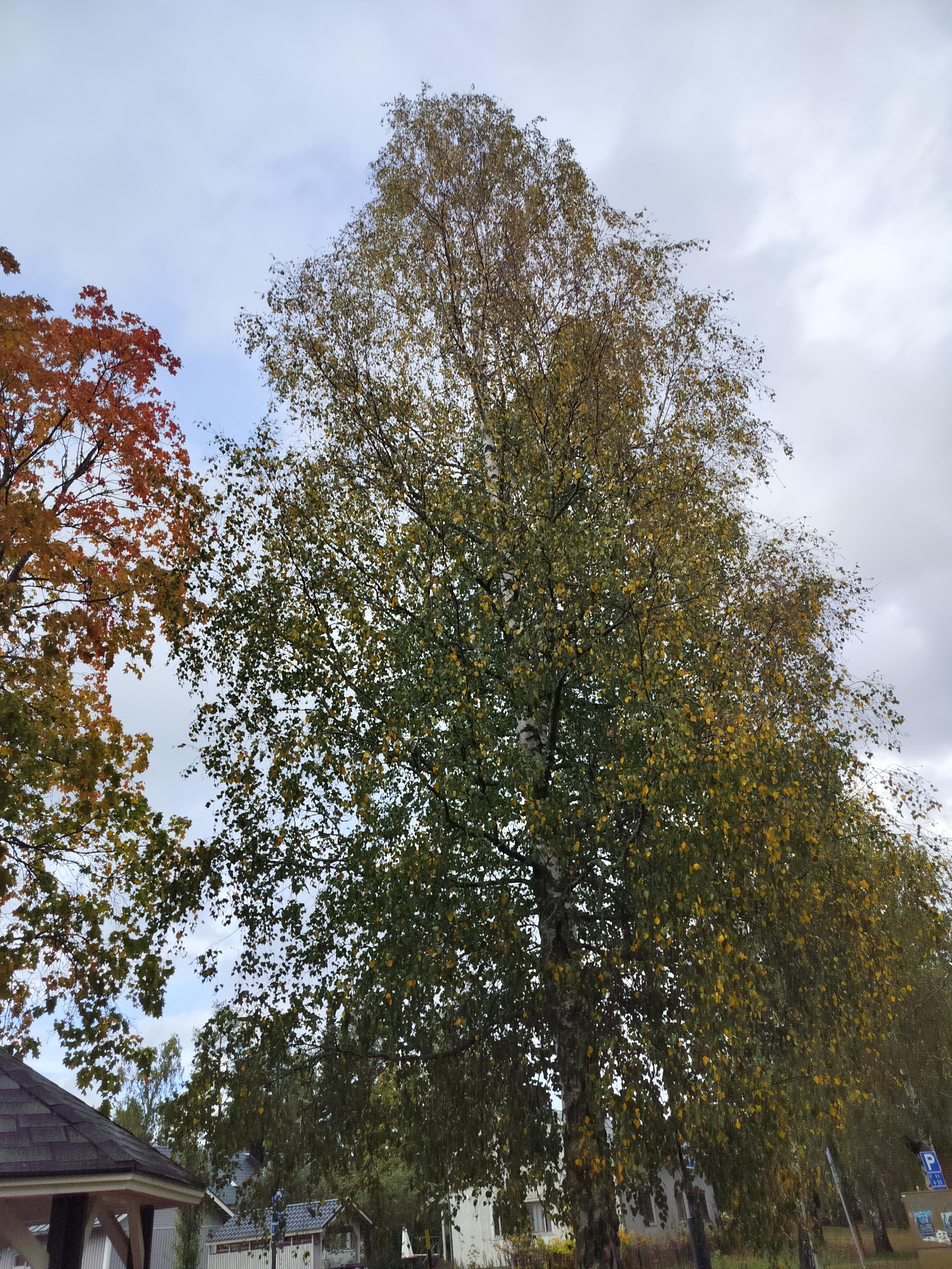Birch: (157, 78, 950, 1266)
